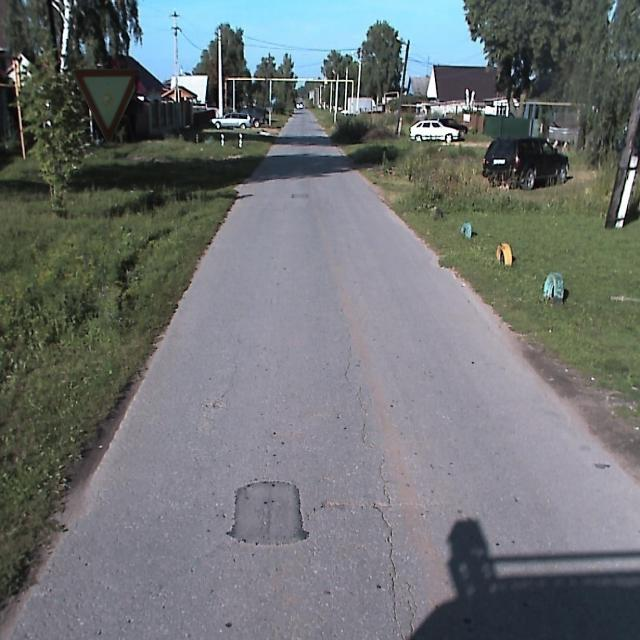road: (14, 110, 639, 639)
